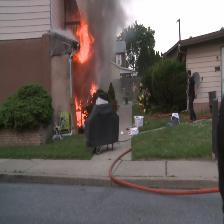fire: (62, 16, 107, 131)
smoke: (93, 0, 134, 94)
